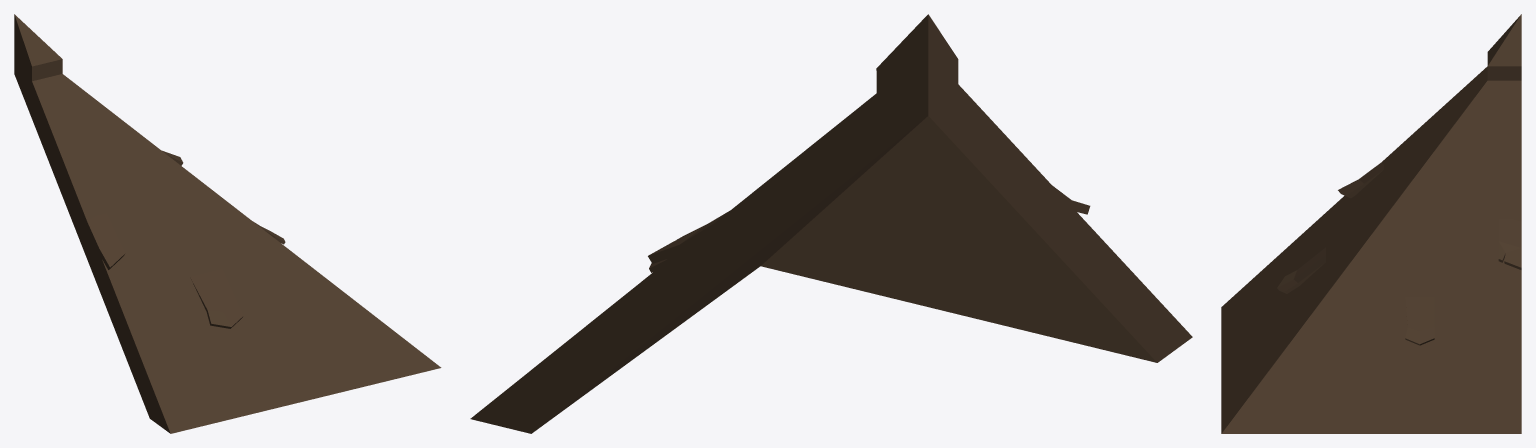
File: buildings-roof-wood-top-corner-out.glb
The picture shows the model from 3 angles, left to right: view 1: azimuth 30°, elevation 25°; view 2: azimuth 150°, elevation 25°; view 3: azimuth 270°, elevation 25°; orthographic projection. The views are drawn at different scales.
Parts seen in each view (by area): view 1: roof-wood-top-corner-out; view 2: roof-wood-top-corner-out; view 3: roof-wood-top-corner-out.
Boxes of the visible parts, left/top/right/bottom form: roof-wood-top-corner-out: left=14, top=14, right=441, bottom=433; roof-wood-top-corner-out: left=470, top=14, right=1192, bottom=433; roof-wood-top-corner-out: left=1221, top=14, right=1521, bottom=433.
Bounding box in the file's own units: 3.46 × 3.73 × 3.46.
